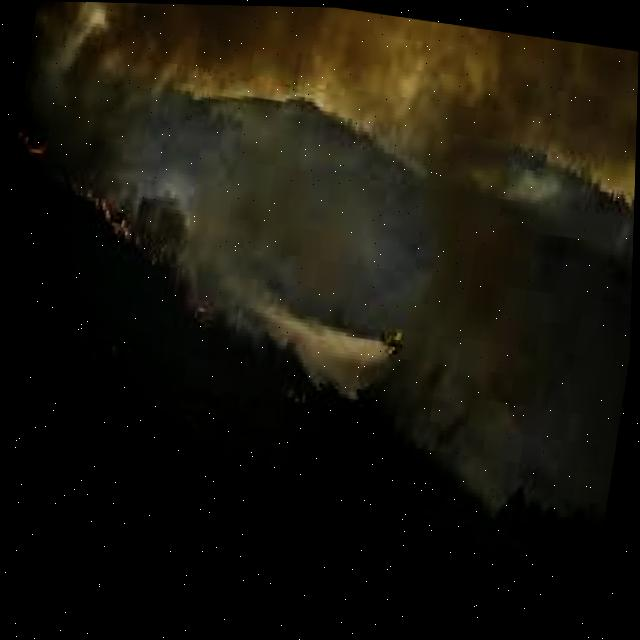smoke: (7, 1, 639, 291), (264, 246, 633, 463)
